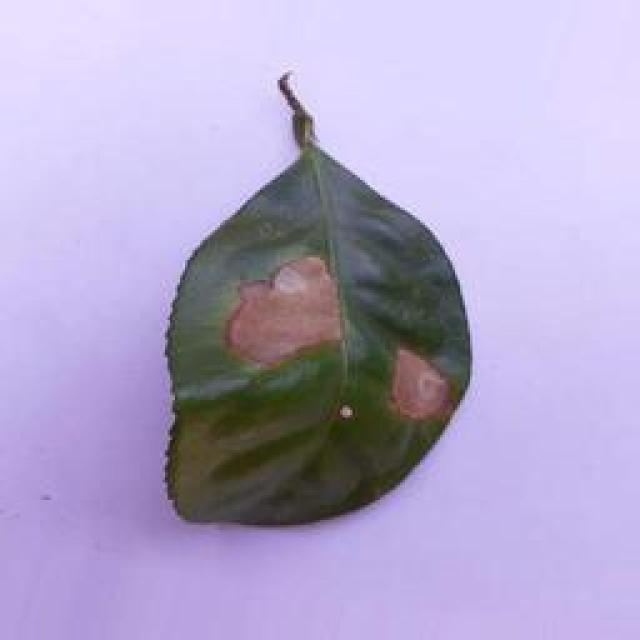Gray Blight: (159, 52, 471, 534)
